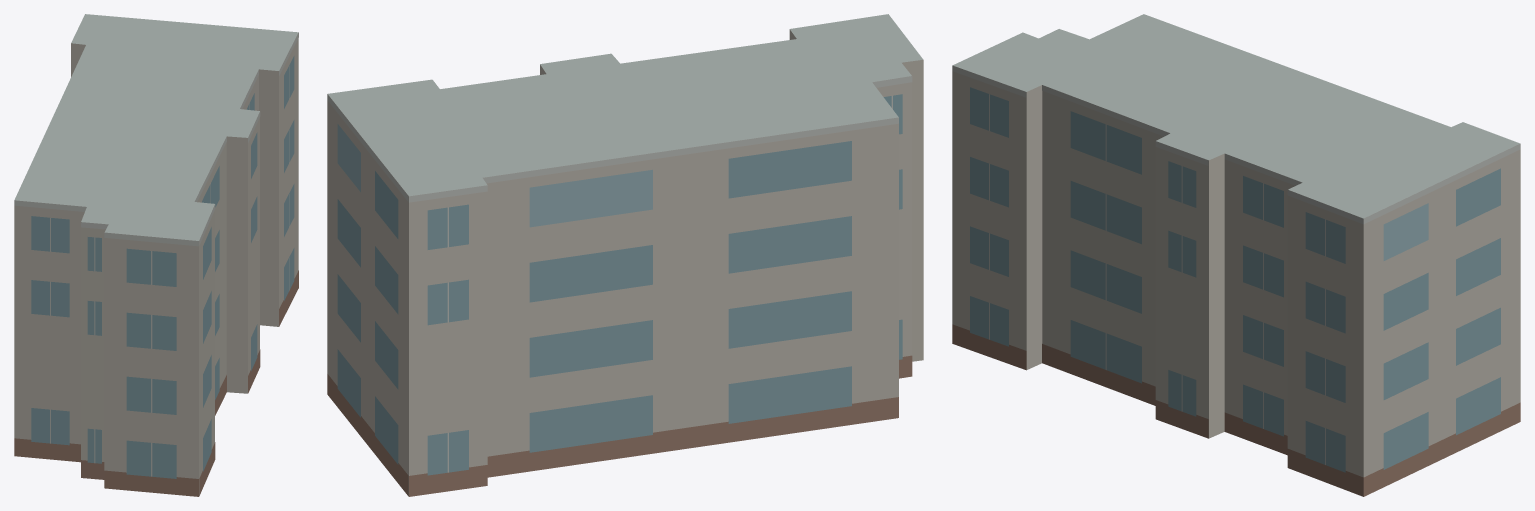
The model's file is survey-upis-32930387.glb.
3 renders of one model, left to right at view 1: azimuth 30°, elevation 25°; view 2: azimuth 150°, elevation 25°; view 3: azimuth 270°, elevation 25°, orthographic. The views are drawn at different scales.
Visible parts, largest first — view 1: survey-upis-32930387.tmp; view 2: survey-upis-32930387.tmp; view 3: survey-upis-32930387.tmp.
Boxes of the visible parts, <box> form: survey-upis-32930387.tmp: <box>14,14,298,496</box>; survey-upis-32930387.tmp: <box>327,14,923,496</box>; survey-upis-32930387.tmp: <box>952,14,1520,496</box>.
Bounding box in the file's own units: 18.46 × 11.7 × 21.65.
